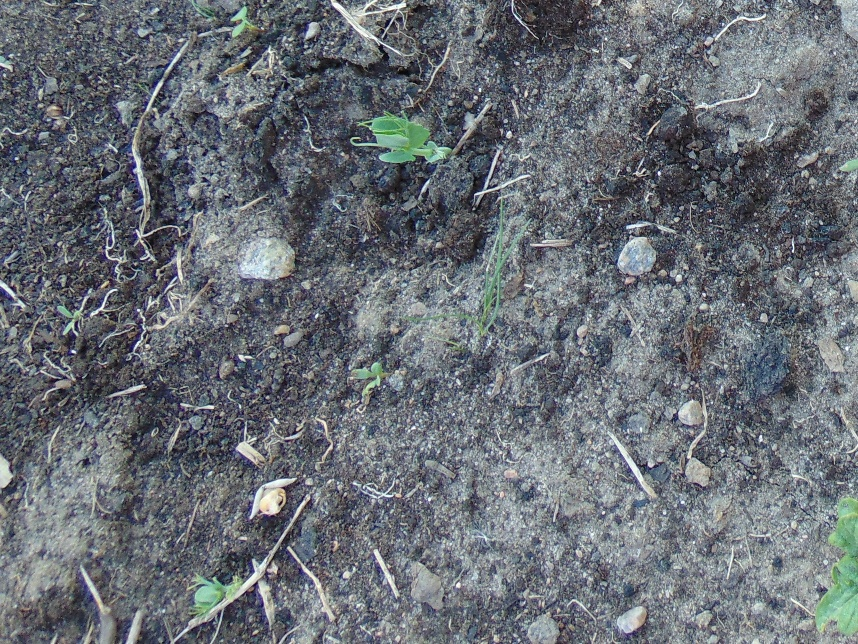crop: (347, 113, 455, 167), (186, 573, 245, 622)
weed: (815, 497, 858, 634), (476, 234, 511, 340), (230, 7, 254, 40)
